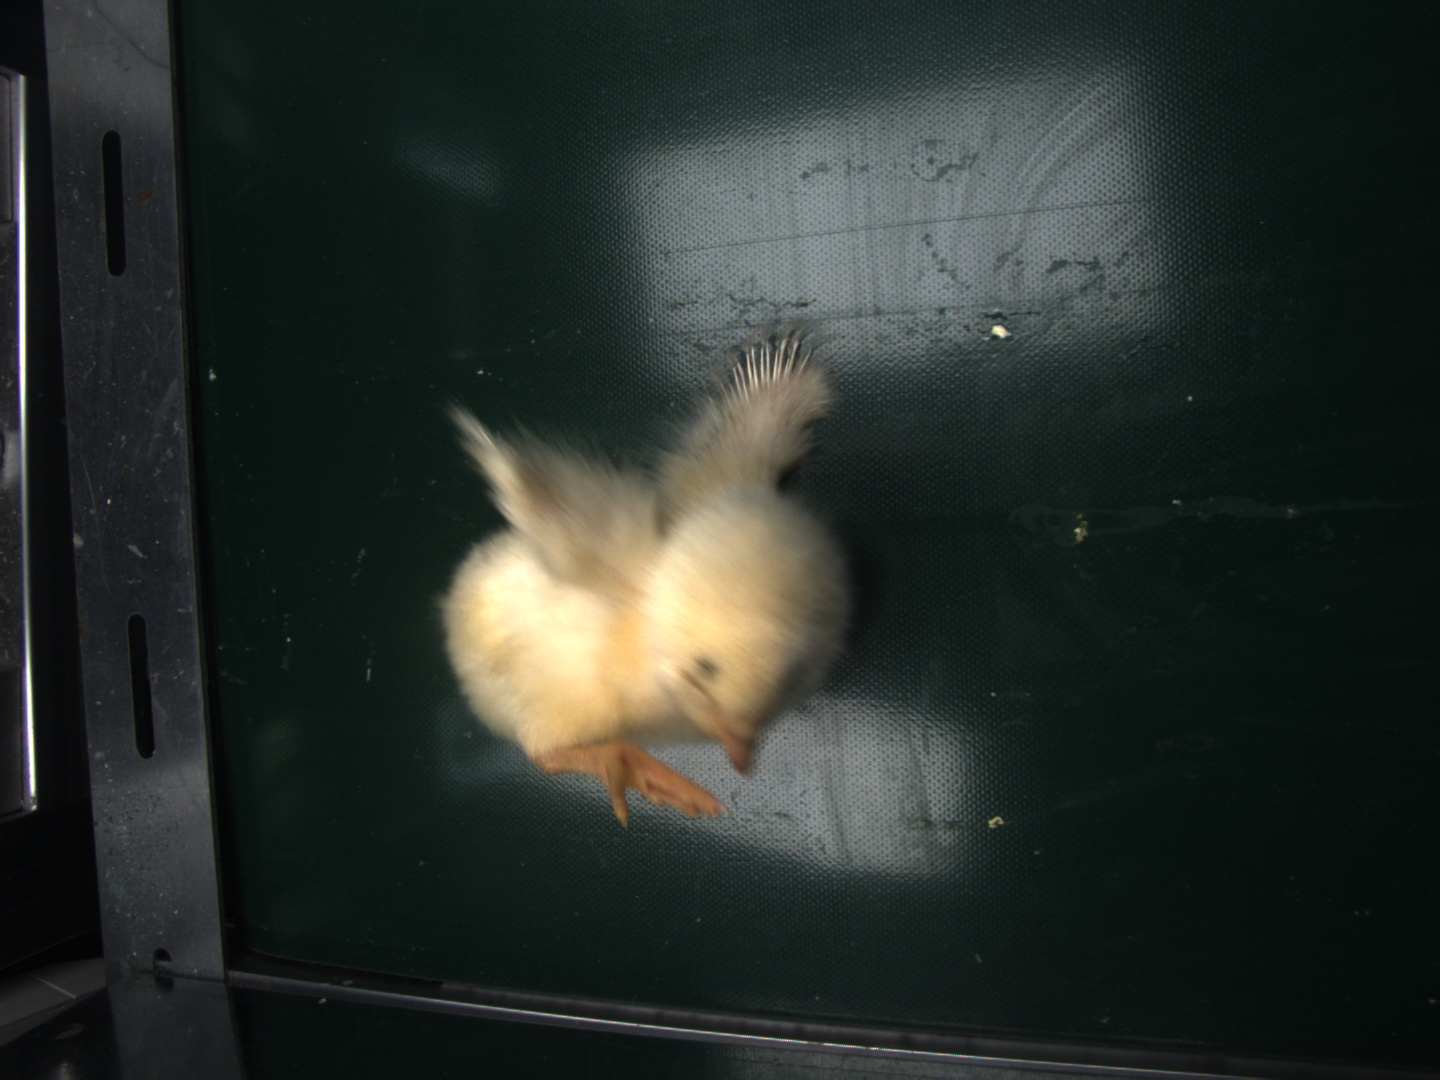male: (725, 339, 814, 400)
